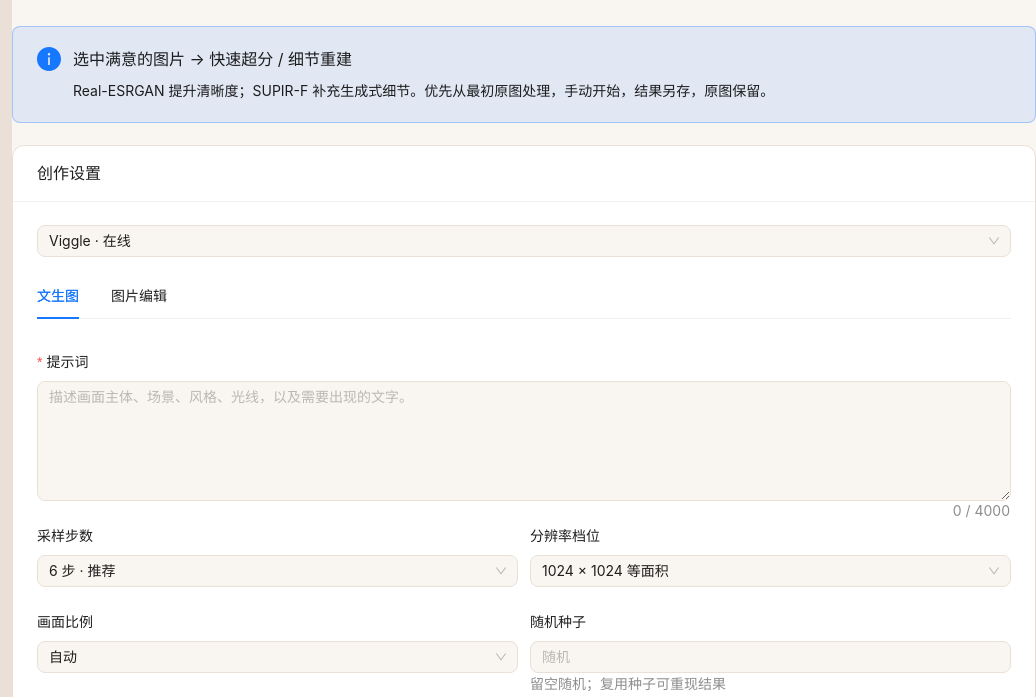
Test: submits recommended defaults and requires a reference in edit mode
Type "A paper boat on calm water" into the text box labelled "提示词" at coordinates (524, 442), box [38,382,1010,500]
(page scrolled)
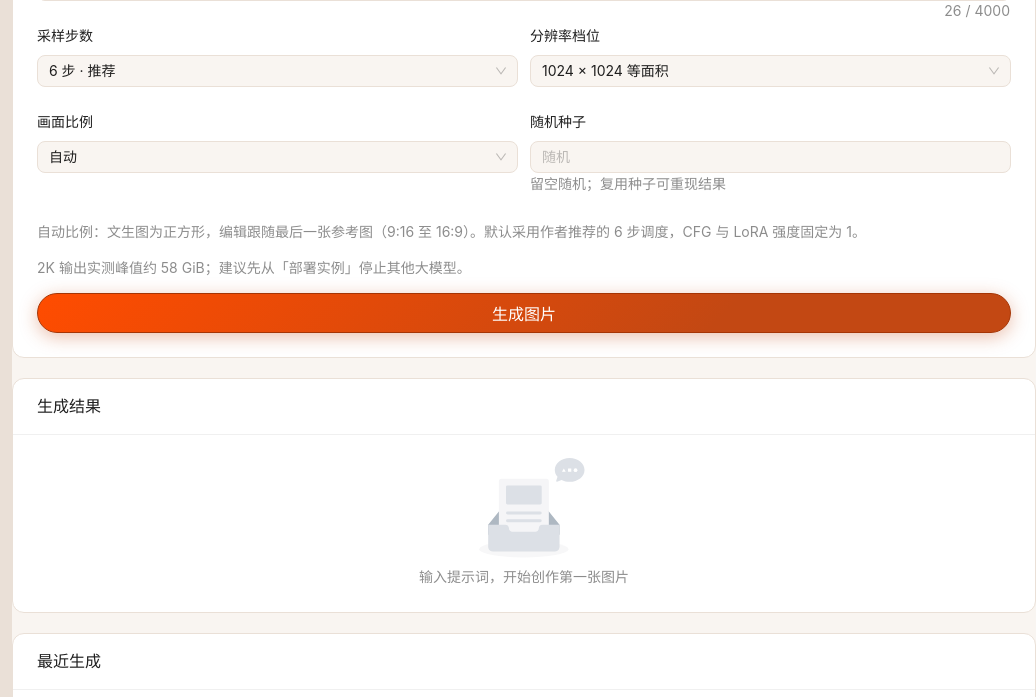
Click the button "生成图片" at coordinates (524, 314), box [37,294,1011,334]
(page scrolled)
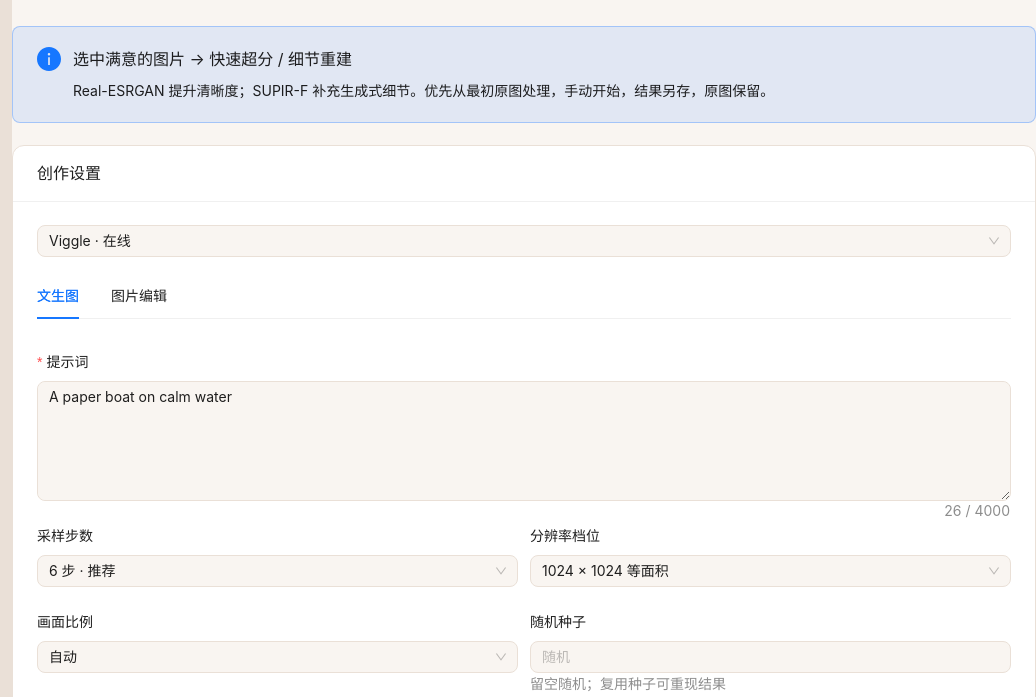
Click the tab "图片编辑" at coordinates (139, 296), box [111,286,167,308]
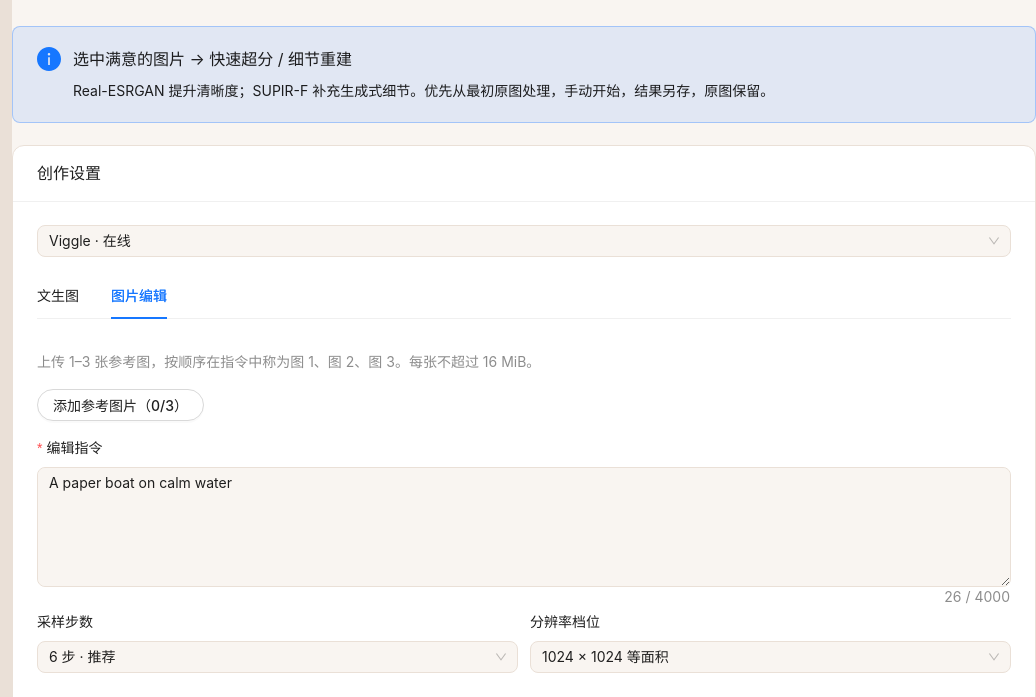
Check: the text "添加参考图片（0/3）" is shown, box [53,396,188,416]
